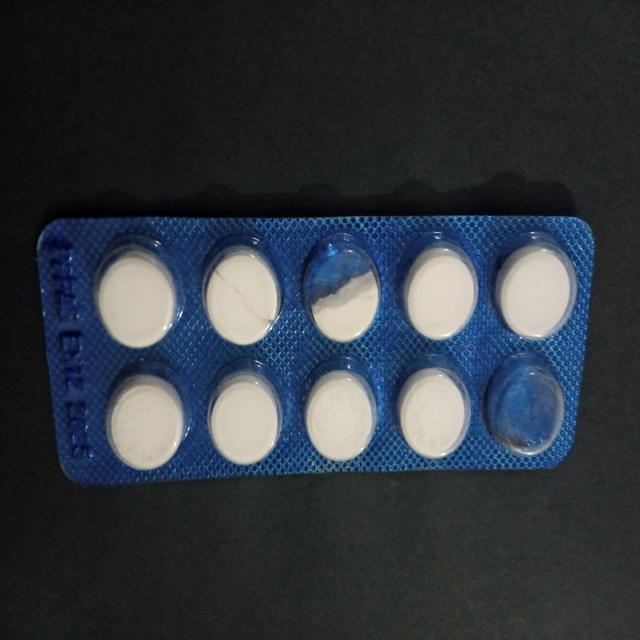defect: (298, 229, 384, 349), (198, 232, 286, 349), (483, 351, 567, 460)
